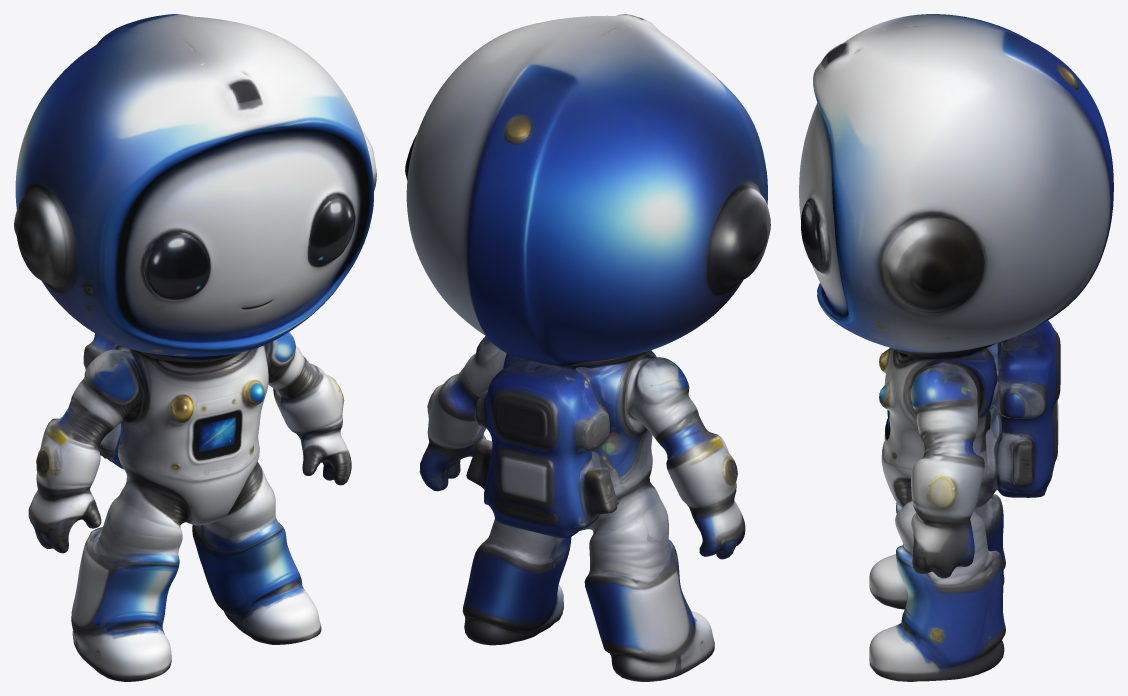
File: chibi_Astro_bot_weari_0928204039_refine.glb
The picture shows the model from 3 angles, left to right: view 1: azimuth 30°, elevation 25°; view 2: azimuth 150°, elevation 25°; view 3: azimuth 270°, elevation 25°; orthographic projection.
Size of the model in its own units: 1.18 by 2 by 0.9492.
Materials: 1 (1 with a texture image).
